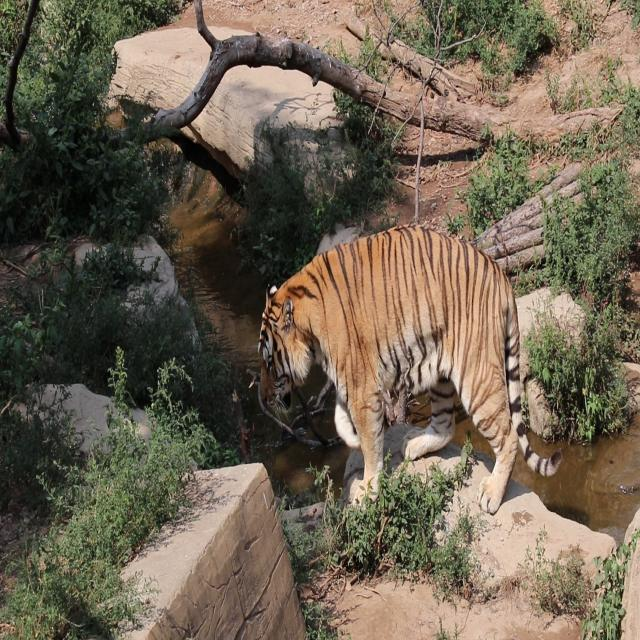Tiger: (249, 203, 575, 523)
